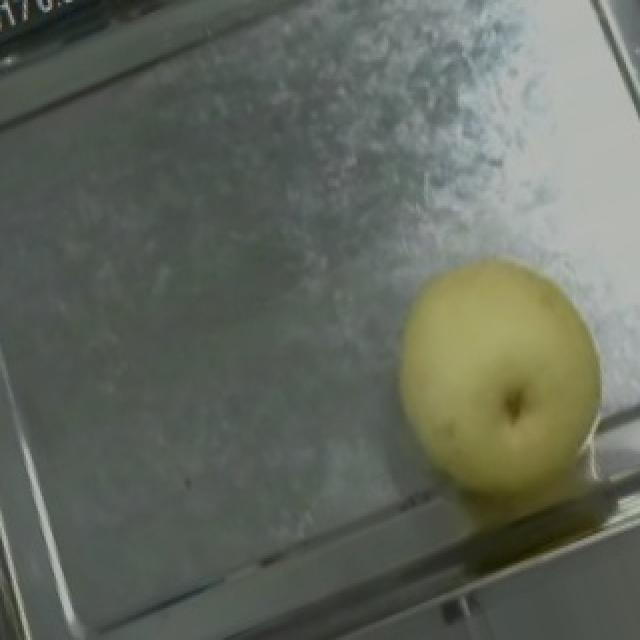Fruit: (350, 216, 640, 536)
